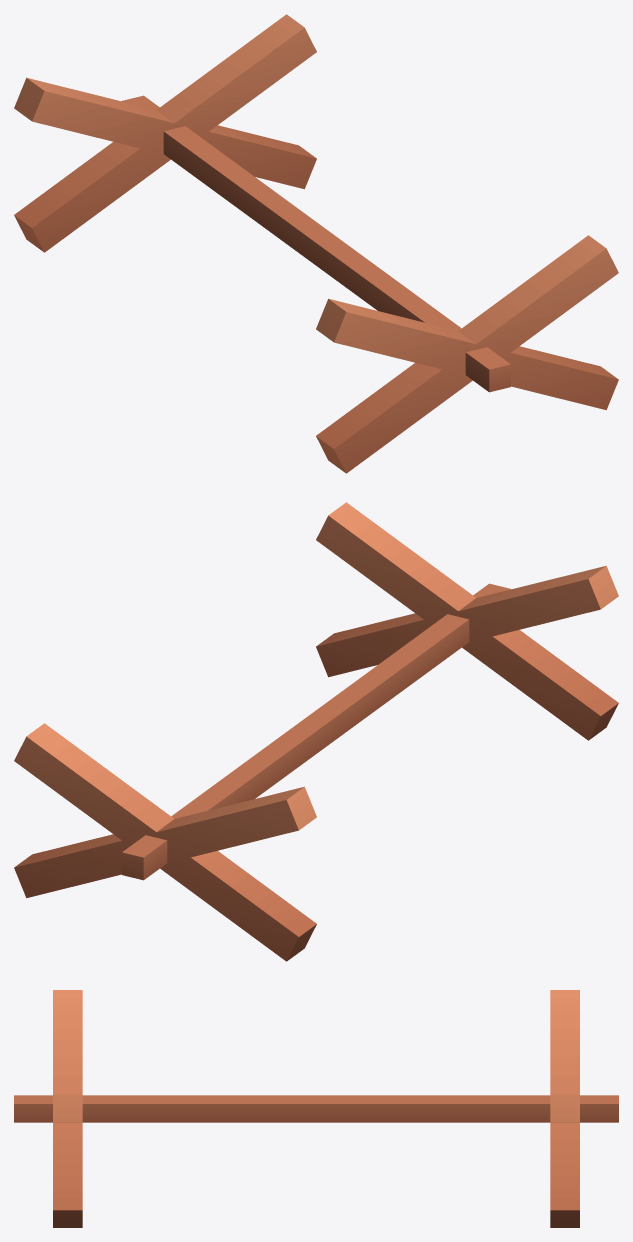
The model's file is bedroll-frame.obj.
The picture shows the model from 3 angles, top to bottom: view 1: azimuth 30°, elevation 25°; view 2: azimuth 150°, elevation 25°; view 3: azimuth 270°, elevation 25°; orthographic projection. The views are drawn at different scales.
Parts seen in each view (by area): view 1: bedroll-frame; view 2: bedroll-frame; view 3: bedroll-frame.
Boxes of the visible parts, left/top/right/bottom form: bedroll-frame: left=14, top=14, right=618, bottom=473; bedroll-frame: left=14, top=502, right=618, bottom=961; bedroll-frame: left=14, top=990, right=618, bottom=1227.
Bounding box in the file's own units: 0.2722 × 0.1477 × 0.6076.
1 material, 1 textured.
